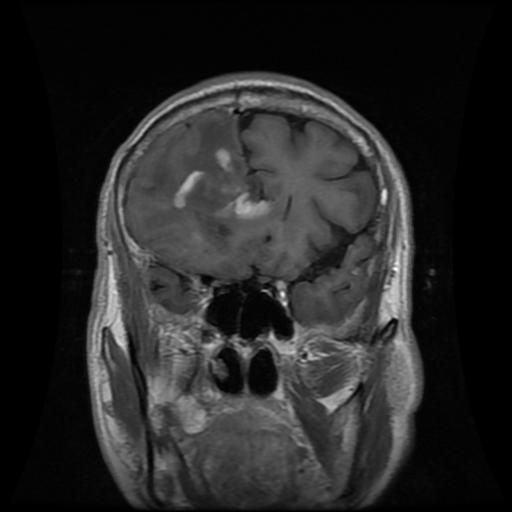Gliomia_tumour: (136, 116, 278, 251)
